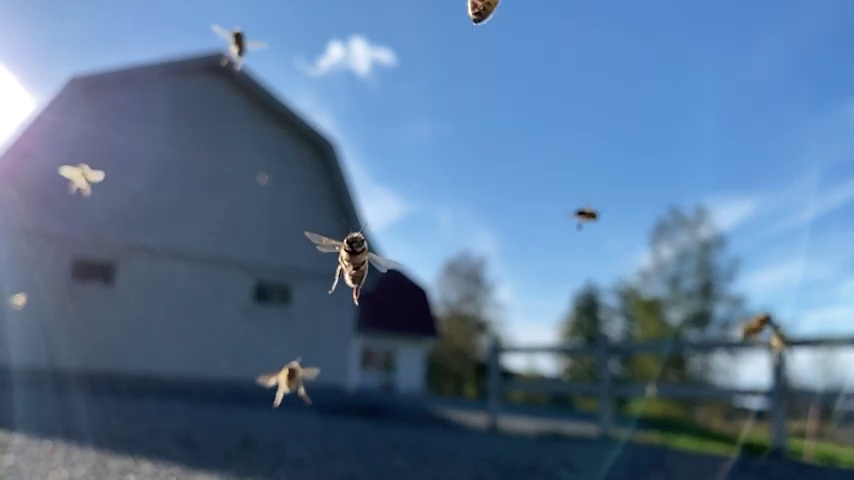insect: (303, 225, 400, 304), (252, 357, 324, 409), (211, 22, 269, 70), (56, 160, 106, 196), (572, 203, 599, 230)
